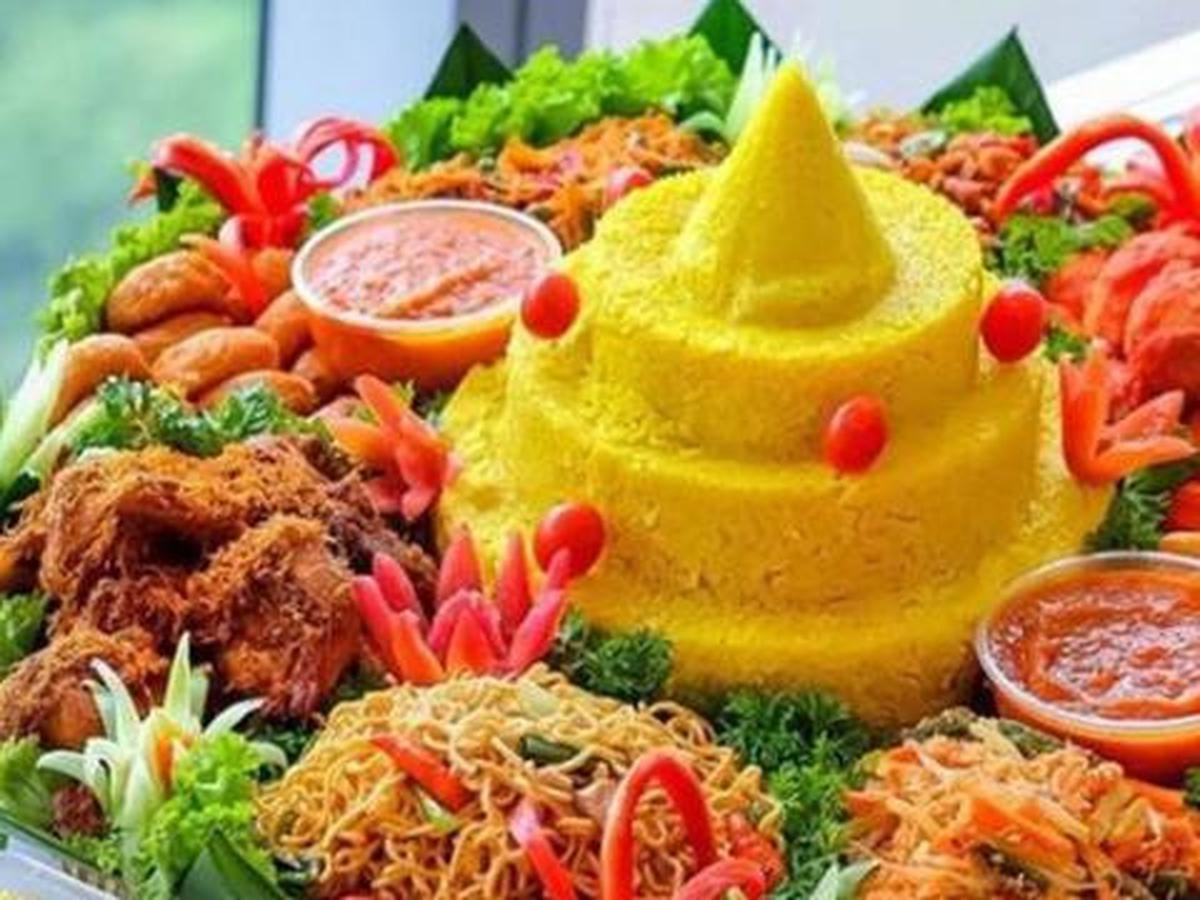nasi_tumpeng: (12, 18, 1176, 877)
